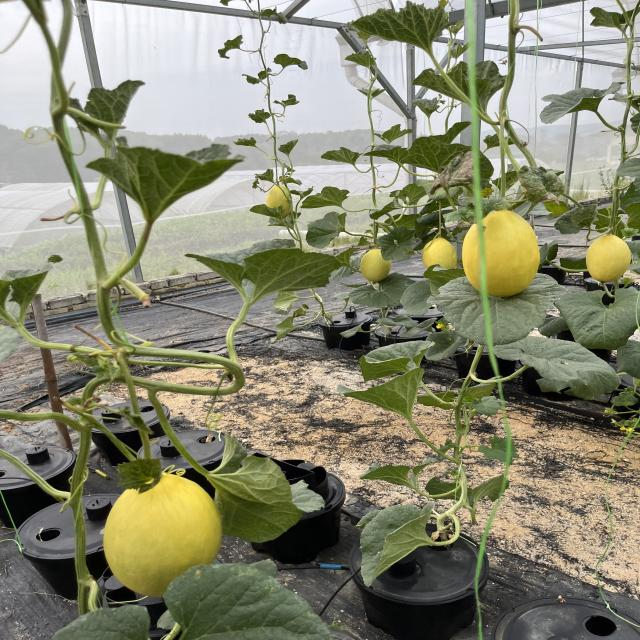CMV: (349, 3, 450, 50), (110, 453, 178, 496), (430, 150, 475, 196)
SLCV: (519, 167, 563, 205)
downy mildew: (488, 334, 623, 396), (298, 213, 352, 248)
healthy: (197, 455, 331, 546), (182, 239, 362, 303), (434, 276, 559, 344), (359, 504, 436, 588), (555, 290, 639, 350), (338, 371, 428, 420), (358, 340, 434, 385), (538, 87, 618, 124), (350, 272, 415, 311), (296, 189, 354, 214), (406, 136, 446, 172), (473, 437, 524, 465), (426, 119, 475, 144), (404, 279, 434, 317), (472, 475, 511, 504), (460, 379, 501, 404), (318, 144, 362, 166), (415, 390, 462, 410), (373, 123, 419, 142), (369, 144, 405, 165)
